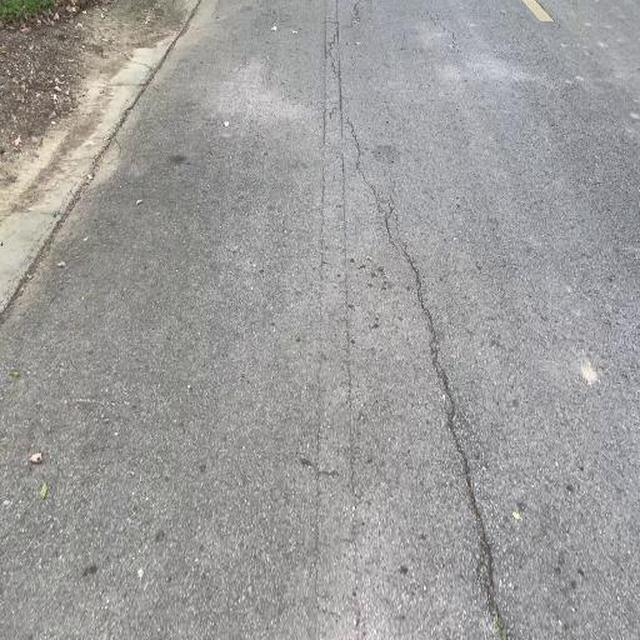Memanjang: (323, 78, 532, 640)
